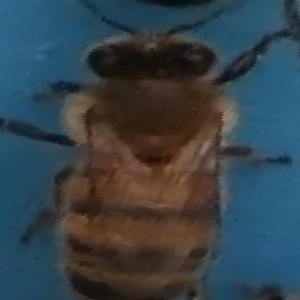bee: (48, 9, 267, 300)
